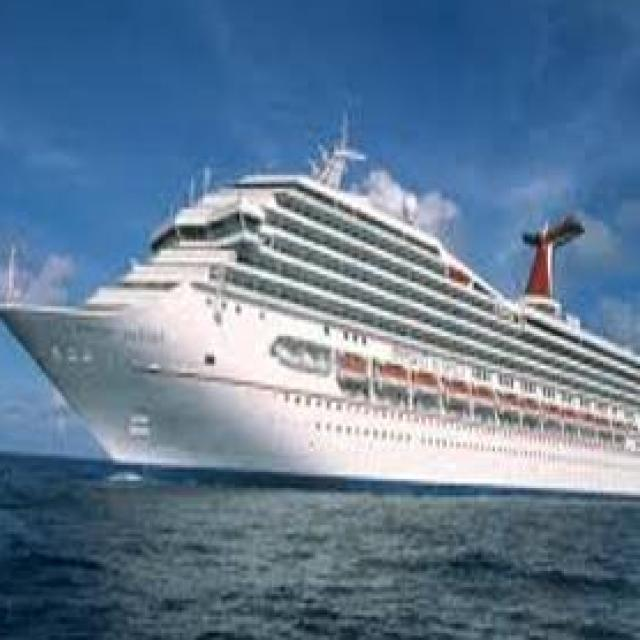passenger ship: (0, 110, 640, 477)
